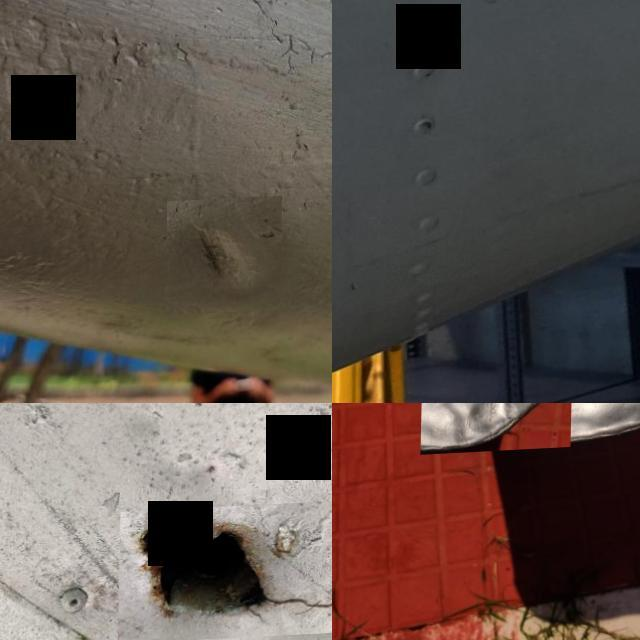Crack: (119, 504, 332, 640)
Dent: (167, 200, 284, 318), (422, 403, 574, 456)
